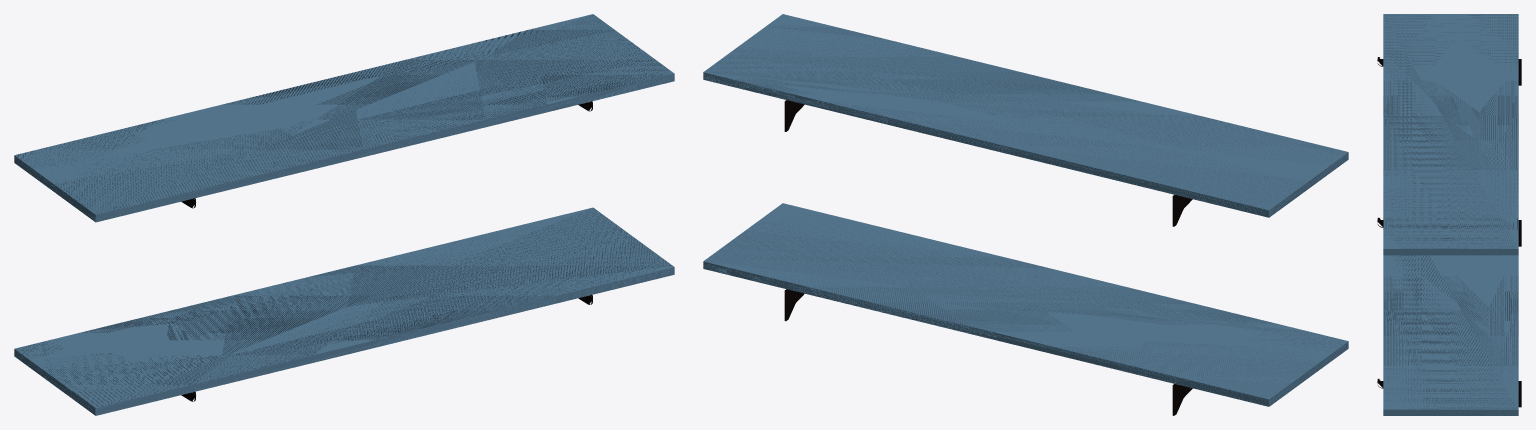
The model's file is shelving.obj.
3 views of the same model, side by side, from view 1: azimuth 30°, elevation 25°; view 2: azimuth 150°, elevation 25°; view 3: azimuth 270°, elevation 25° (orthographic). The views are drawn at different scales.
Parts seen in each view (by area): view 1: Shelving_2, Shelving_1; view 2: Shelving_2, Shelving_1; view 3: Shelving_2, Shelving_1.
Part boxes in pixels (left/top/right/bottom): Shelving_2: left=14, top=14, right=674, bottom=222; Shelving_1: left=14, top=207, right=674, bottom=415; Shelving_2: left=703, top=14, right=1348, bottom=217; Shelving_1: left=703, top=203, right=1348, bottom=406; Shelving_2: left=1383, top=14, right=1518, bottom=255; Shelving_1: left=1383, top=255, right=1518, bottom=415.
Size of the model in its own units: 119 by 45.63 by 30.91.
